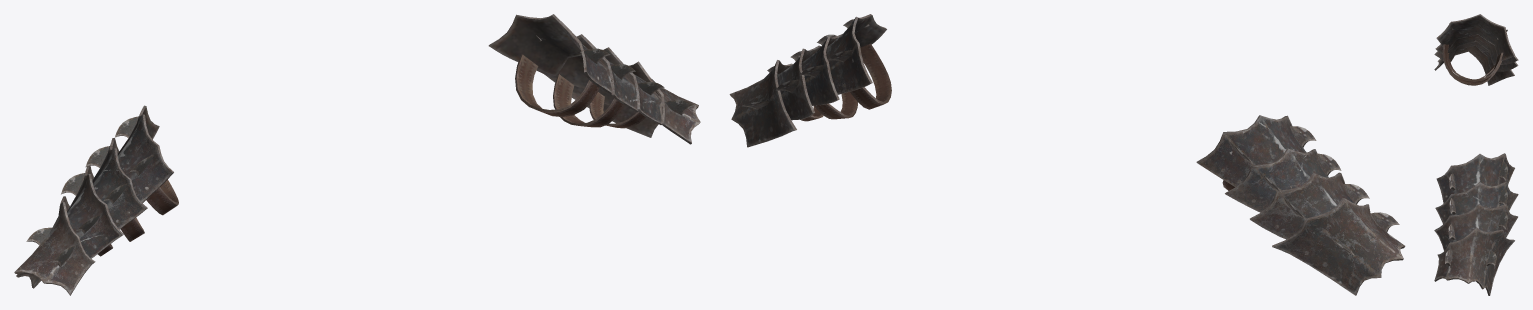
The model's file is sk_dg_uruk_bracer_elite_j.fbx.
3 views of the same model, side by side, from view 1: azimuth 30°, elevation 25°; view 2: azimuth 150°, elevation 25°; view 3: azimuth 270°, elevation 25° (orthographic). The views are drawn at different scales.
Parts seen in each view (by area): view 1: sk_dg_uruk_bracer_elite_j; view 2: sk_dg_uruk_bracer_elite_j; view 3: sk_dg_uruk_bracer_elite_j.
Boxes of the visible parts, x1,y1,x2,y2 form: sk_dg_uruk_bracer_elite_j: (14, 14, 700, 295); sk_dg_uruk_bracer_elite_j: (729, 14, 1405, 295); sk_dg_uruk_bracer_elite_j: (1434, 14, 1518, 295).
Size of the model in its own units: 1.54 by 0.2366 by 0.3306.
Materials: 1 (1 with a texture image).
